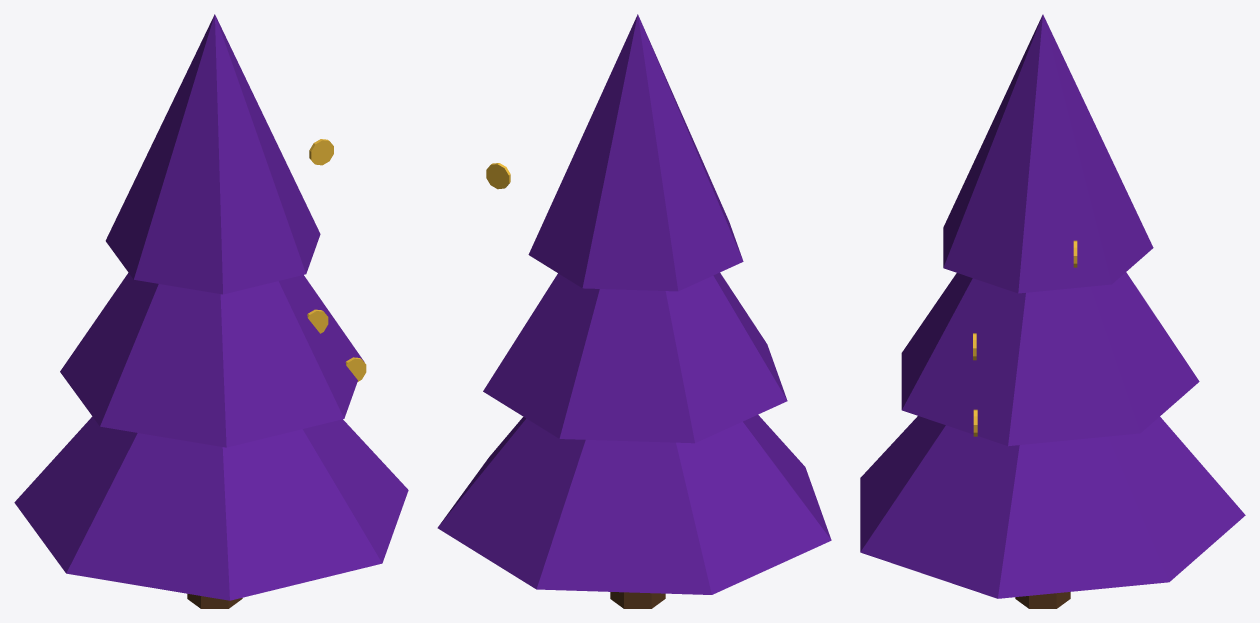
Rendered from Prop_OR_LedgerTree_18.glb.
3 views of the same model, side by side, from view 1: azimuth 30°, elevation 25°; view 2: azimuth 150°, elevation 25°; view 3: azimuth 270°, elevation 25° (orthographic).
Visible parts, largest first — view 1: Prop_OR_LedgerTree_18; view 2: Prop_OR_LedgerTree_18; view 3: Prop_OR_LedgerTree_18.
Part boxes in pixels (bbox=[...]): Prop_OR_LedgerTree_18: bbox=[14, 14, 408, 608]; Prop_OR_LedgerTree_18: bbox=[437, 14, 831, 608]; Prop_OR_LedgerTree_18: bbox=[860, 14, 1245, 608].
Bounding box in the file's own units: 2.14 × 3.5 × 2.09.
